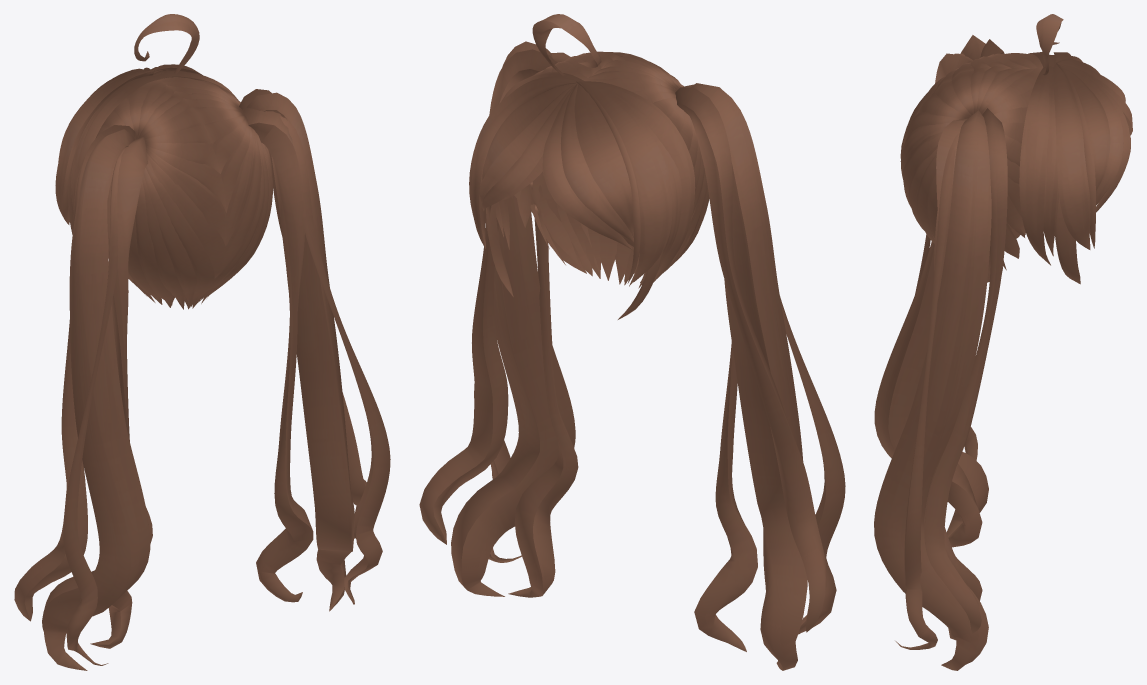
File: hair.glb
The picture shows the model from 3 angles, left to right: view 1: azimuth 30°, elevation 25°; view 2: azimuth 150°, elevation 25°; view 3: azimuth 270°, elevation 25°; orthographic projection. The views are drawn at different scales.
Parts seen in each view (by area): view 1: Hair001; view 2: Hair001; view 3: Hair001.
Part boxes in pixels (x1,y1,x2,y2): Hair001: (14, 14, 390, 670); Hair001: (419, 14, 845, 670); Hair001: (874, 14, 1132, 670).
Size of the model in its own units: 0.4242 by 0.6606 by 0.2603.
1 material, 1 textured.
